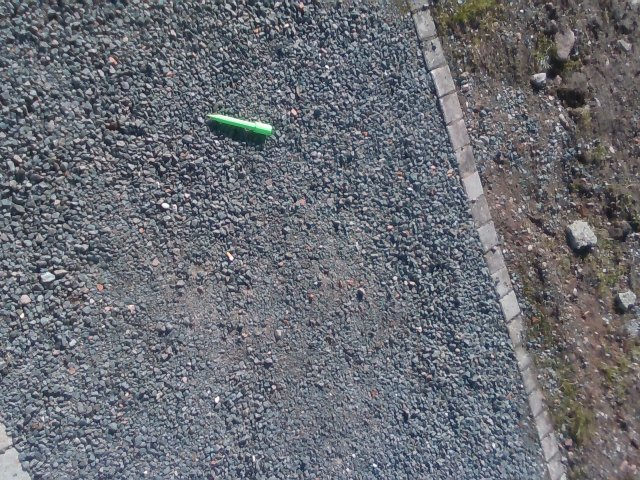Probe: (202, 108, 276, 141)
